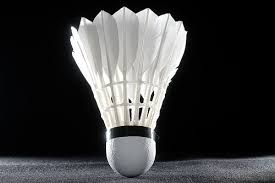shuttle: (51, 6, 196, 183)
